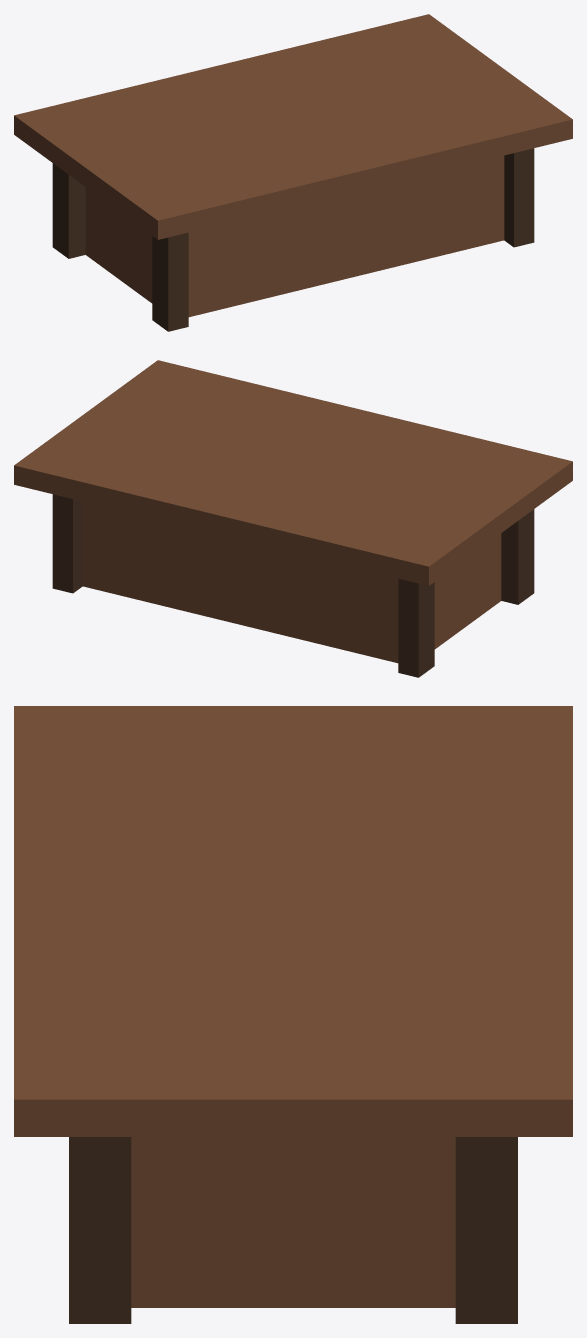
Rendered from OfficeTable.fbx.
3 renders of one model, top to bottom at view 1: azimuth 30°, elevation 25°; view 2: azimuth 150°, elevation 25°; view 3: azimuth 270°, elevation 25°, orthographic. The views are drawn at different scales.
Visible parts, largest first — view 1: Office Table; view 2: Office Table; view 3: Office Table.
Part boxes in pixels (x1,y1,x2,y2): Office Table: (14,14,572,331); Office Table: (14,360,572,677); Office Table: (14,706,572,1323).
Size of the model in its own units: 273 by 80.03 by 164.
